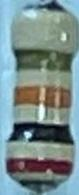Black: (7, 123, 76, 149)
Orange: (13, 84, 75, 112)
Red: (5, 157, 74, 177)
Side-Gold: (11, 46, 77, 74)
